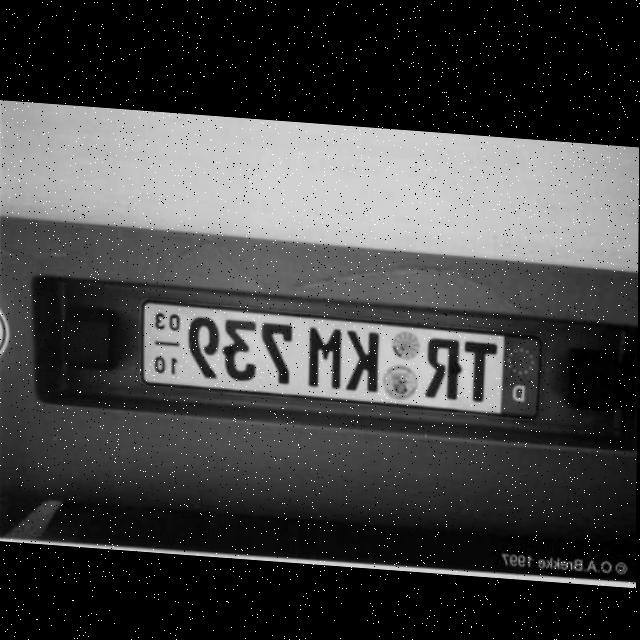license-plates: (140, 302, 540, 419)
